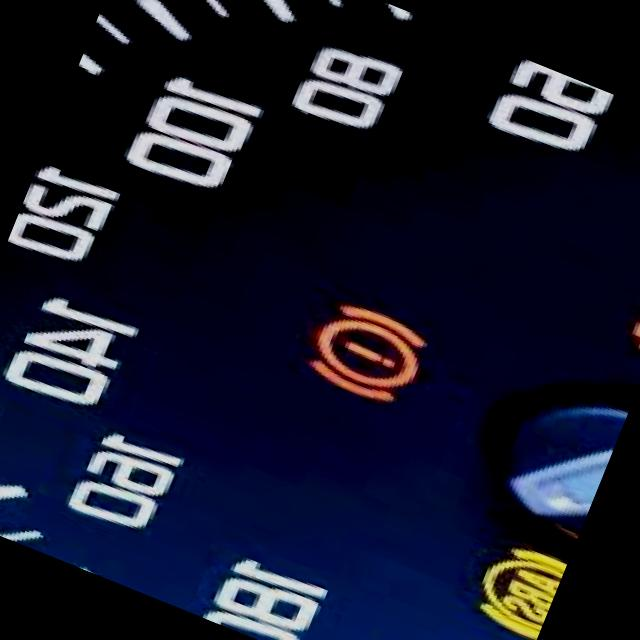kontrolka: (258, 265, 452, 437)
